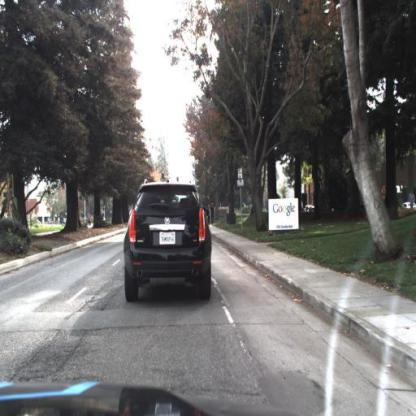car: (122, 180, 216, 302)
trafficLight-Green: (161, 173, 166, 184), (176, 176, 180, 184)
